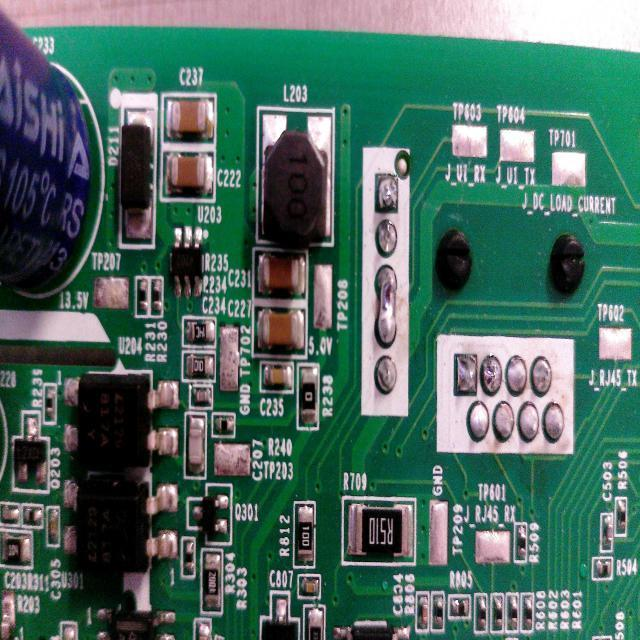Soldering shorted: (371, 264, 402, 350)
